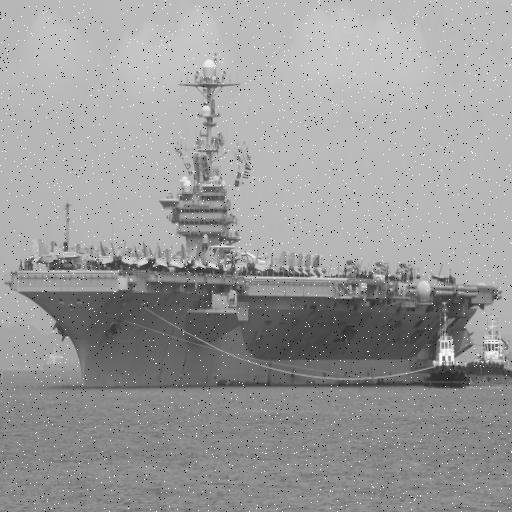Portanaves: (1, 44, 505, 397)
